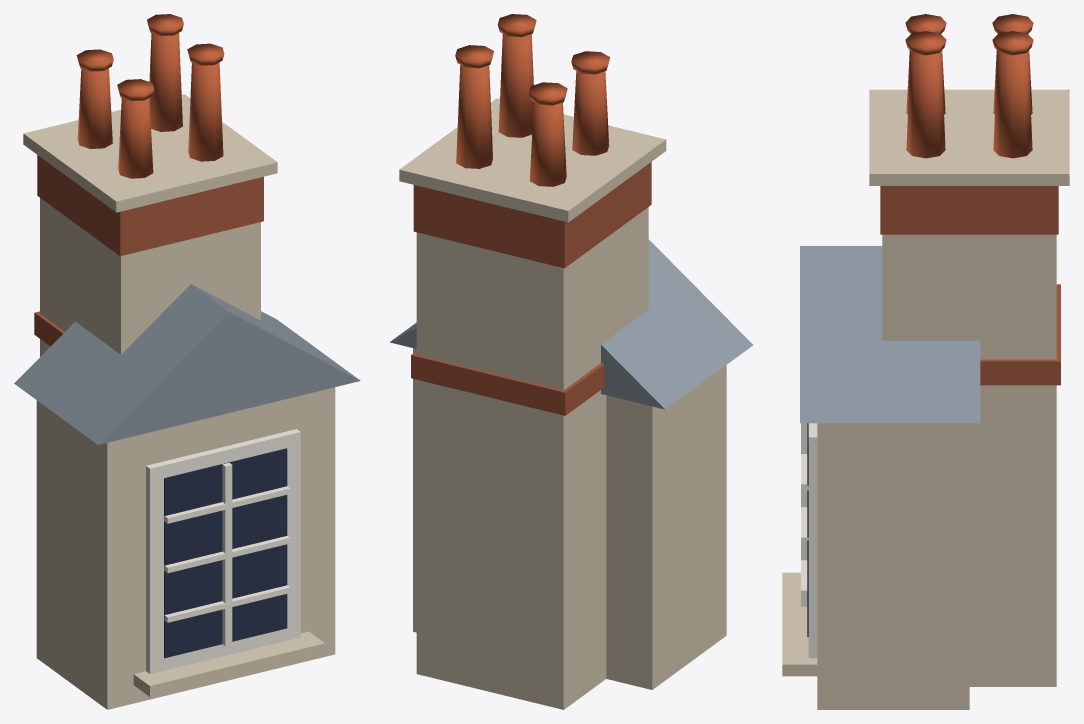
Rendered from paris.glb.
3 views of the same model, side by side, from view 1: azimuth 30°, elevation 25°; view 2: azimuth 150°, elevation 25°; view 3: azimuth 270°, elevation 25° (orthographic). The views are drawn at different scales.
Parts seen in each view (by area): view 1: pa_dormer, pa_chimney; view 2: pa_chimney, pa_dormer; view 3: pa_chimney, pa_dormer.
Part boxes in pixels (<box>): pa_dormer: <box>14,284,360,709</box>; pa_chimney: <box>23,14,277,356</box>; pa_chimney: <box>399,14,666,709</box>; pa_dormer: <box>390,239,753,689</box>; pa_chimney: <box>869,14,1069,686</box>; pa_dormer: <box>782,246,980,709</box>.
Size of the model in its own units: 1.5 by 3.19 by 1.32.
